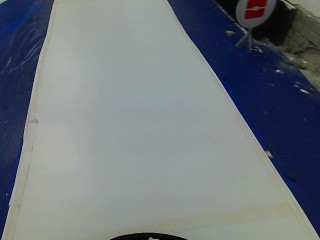company: (234, 0, 276, 26)
